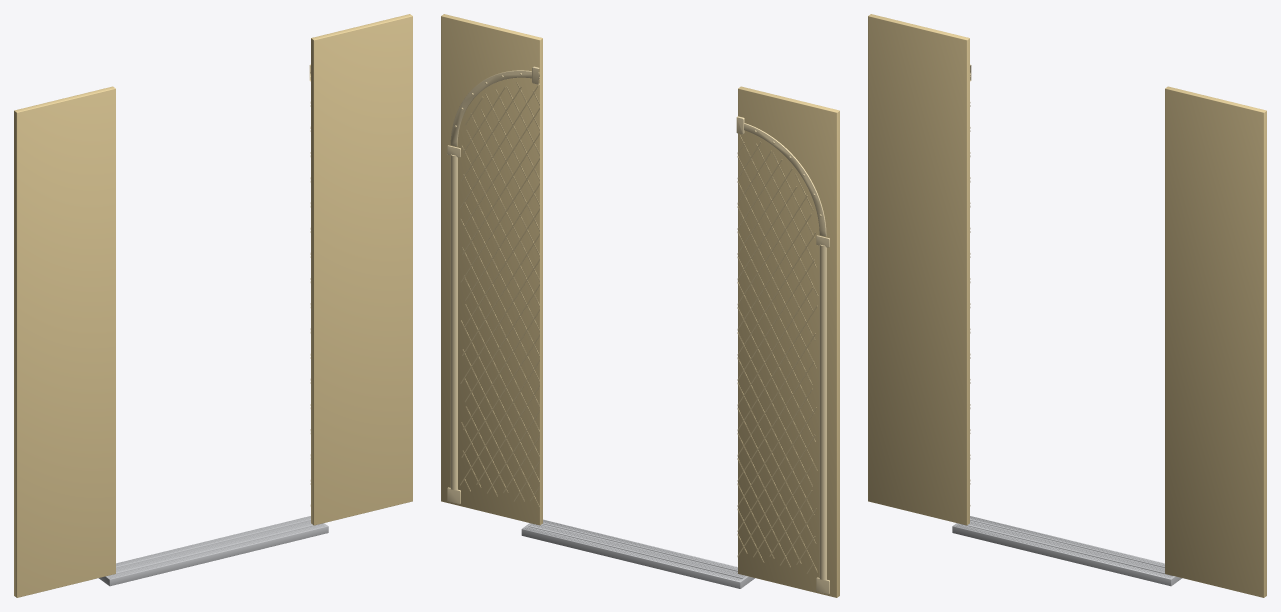
File: cabin_door_TM005.glb
The picture shows the model from 3 angles, left to right: view 1: azimuth 30°, elevation 25°; view 2: azimuth 150°, elevation 25°; view 3: azimuth 330°, elevation 25°; orthographic projection.
Parts seen in each view (by area): view 1: Car_Door_R, Car_Door_L, Door_Sill; view 2: Car_Door_L, Car_Door_R, Door_Sill; view 3: Car_Door_L, Car_Door_R, Door_Sill.
Part boxes in pixels (x1,y1,x2,y2): Car_Door_R: (309,14,412,525); Car_Door_L: (14,86,115,597); Door_Sill: (98,516,328,586); Car_Door_L: (736,86,839,597); Car_Door_R: (441,14,542,525); Door_Sill: (521,519,754,588); Car_Door_L: (868,14,971,525); Car_Door_R: (1165,86,1266,597); Door_Sill: (952,516,1182,586).
Size of the model in its own units: 1.81 by 2.15 by 0.12.
